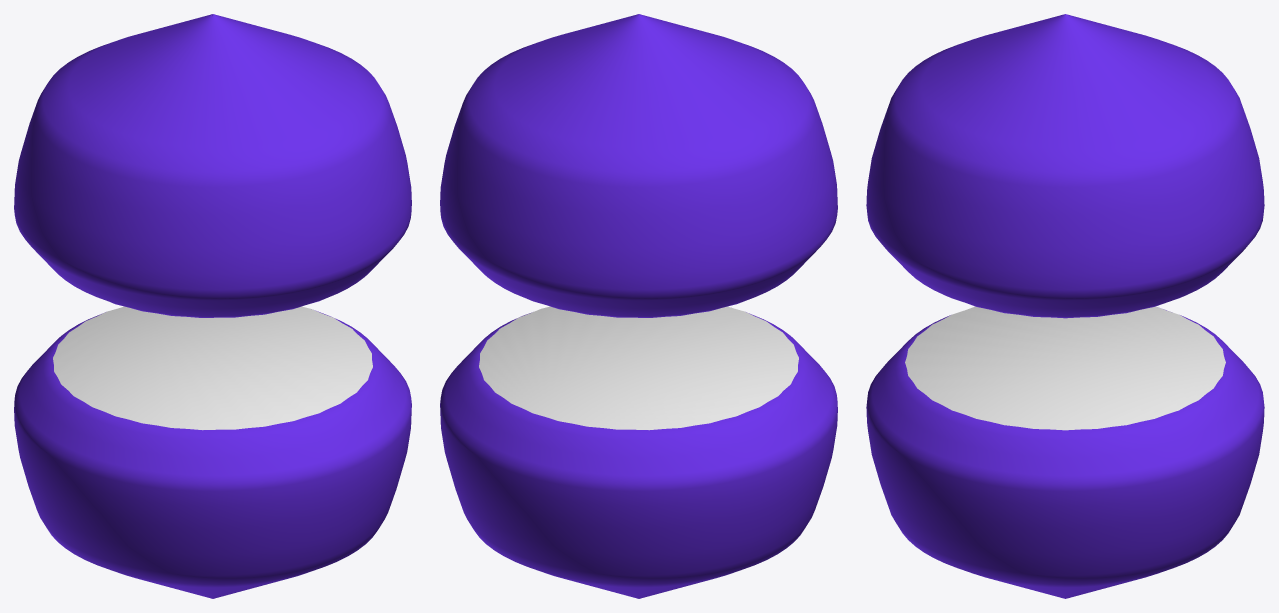
Rendered from cubeblastrocket.fbx.
The picture shows the model from 3 angles, left to right: view 1: azimuth 30°, elevation 25°; view 2: azimuth 150°, elevation 25°; view 3: azimuth 270°, elevation 25°; orthographic projection.
Visible parts, largest first — view 1: Cylinder, Cylinder.001; view 2: Cylinder, Cylinder.001; view 3: Cylinder, Cylinder.001.
Boxes of the visible parts, x1=… form: Cylinder: x1=14, y1=14, x2=411, y2=317; Cylinder.001: x1=14, y1=306, x2=411, y2=598; Cylinder: x1=440, y1=14, x2=837, y2=317; Cylinder.001: x1=440, y1=306, x2=837, y2=598; Cylinder: x1=866, y1=14, x2=1264, y2=318; Cylinder.001: x1=866, y1=306, x2=1264, y2=598.
Size of the model in its own units: 121 by 197 by 121.
